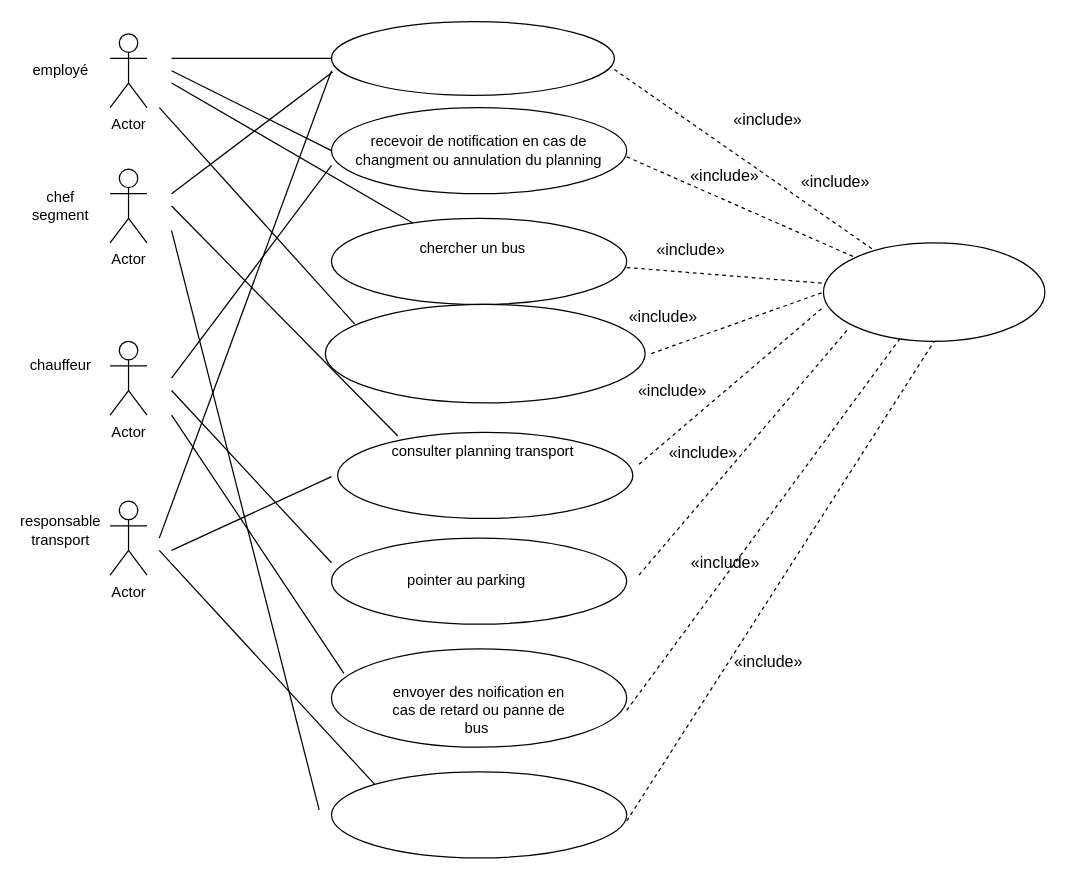
This 1066x879 diagram has some shape labels left out. The centre of each missing label's shape, as x and y in pixels:
consulter planning du travail: point 472,57
pointer au satation de départ: point 484,353
recevoir une notification et email en cas de panne ou retard de bus: point 478,814
S'authentifier: point 933,291
